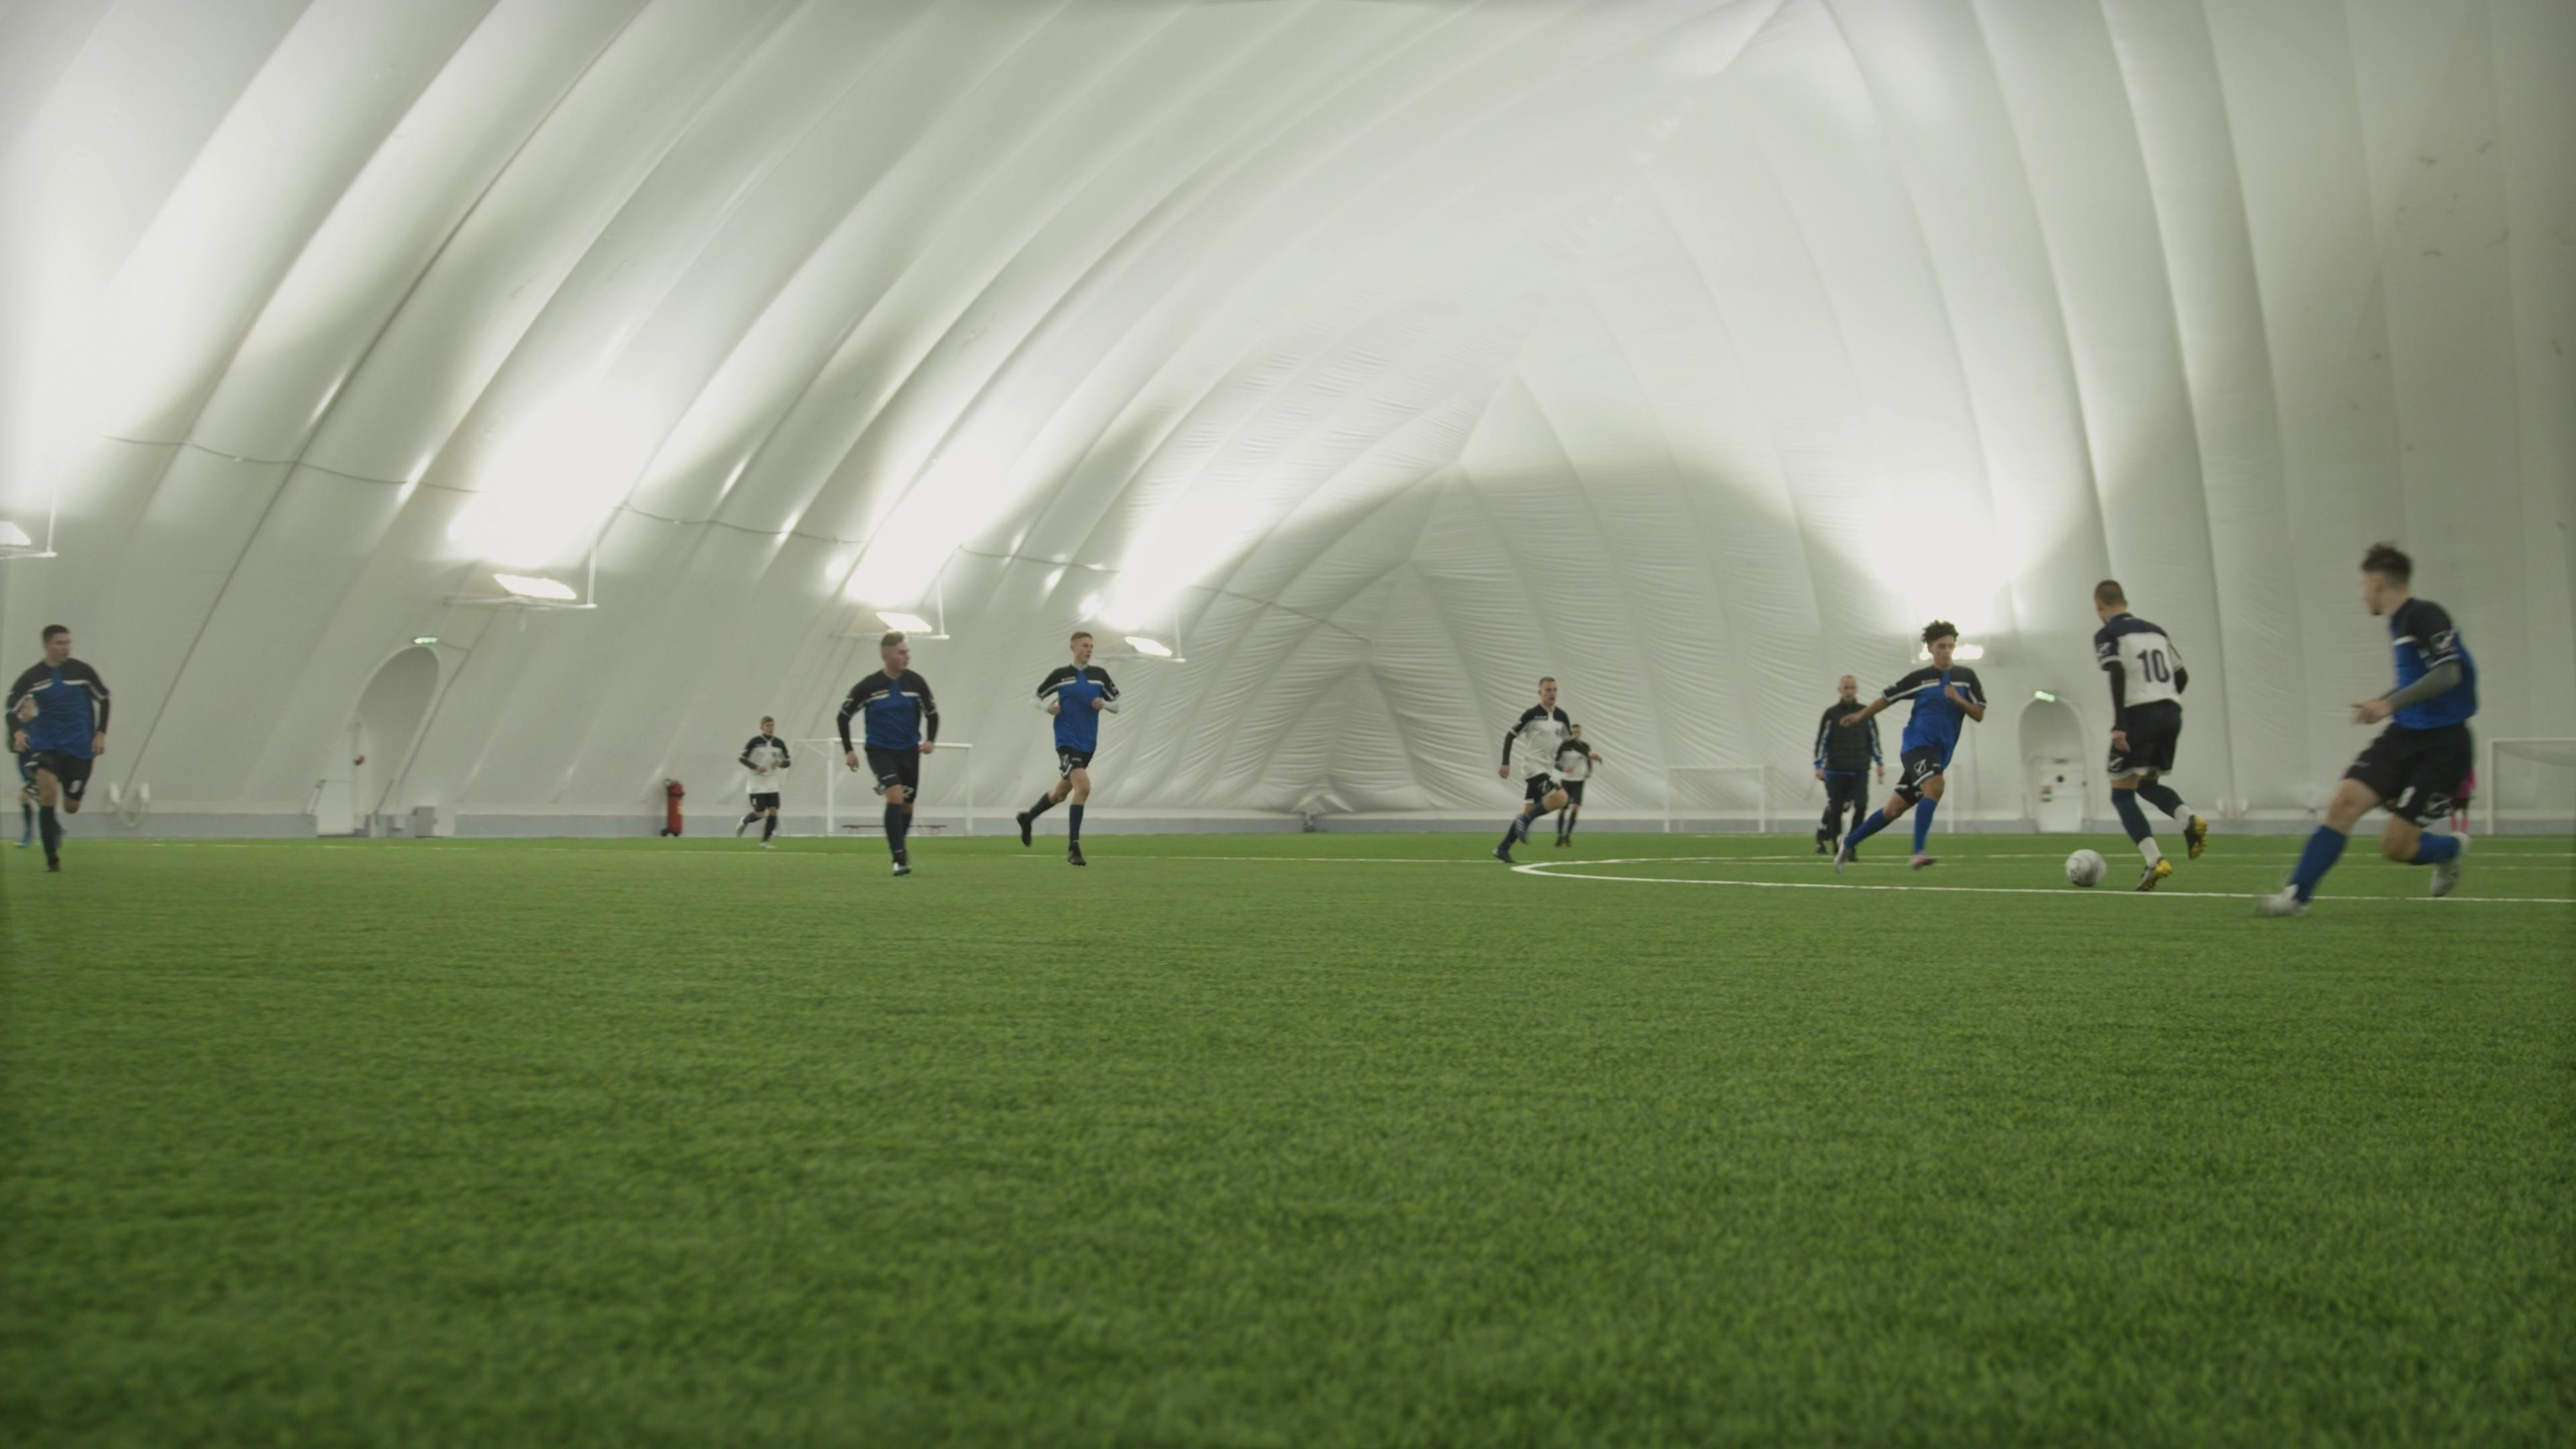other: (1810, 676, 1881, 863)
team1: (2265, 543, 2480, 911), (1845, 621, 1985, 870), (0, 621, 111, 874), (1014, 623, 1123, 867), (839, 635, 941, 876)
team2: (2089, 579, 2206, 881), (1495, 672, 1599, 862), (732, 711, 793, 846), (1557, 713, 1596, 833)
